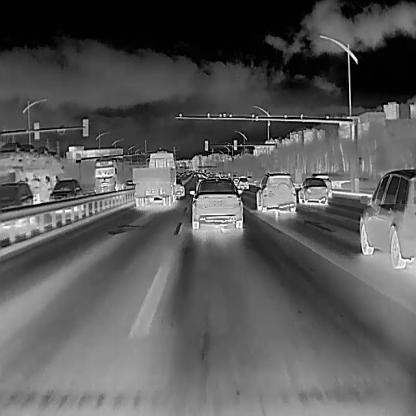car: (357, 167, 415, 269), (189, 176, 243, 230), (131, 150, 177, 207), (255, 171, 296, 213), (92, 154, 133, 192), (0, 181, 33, 220), (48, 177, 83, 209), (297, 176, 329, 207), (310, 172, 333, 198), (175, 181, 185, 198), (235, 176, 248, 189), (124, 177, 137, 190)
